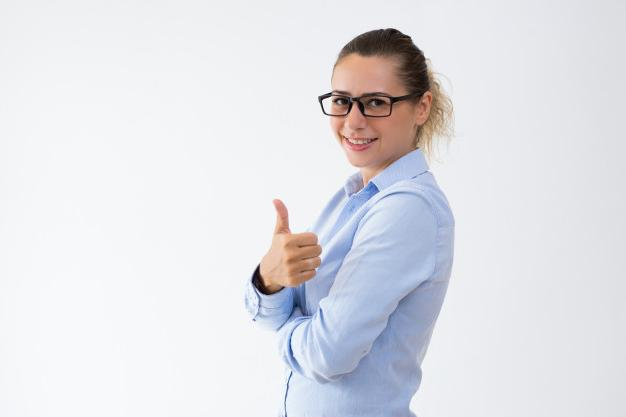thumbsup: (272, 198, 322, 287)
